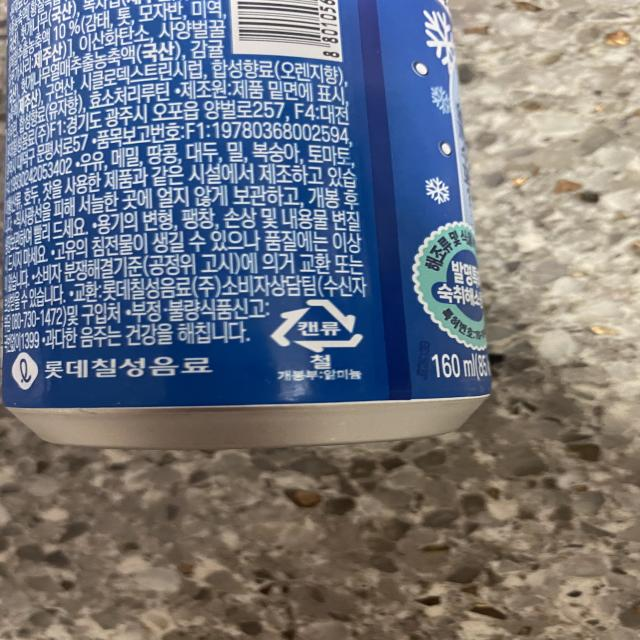Can: (269, 294, 368, 354)
